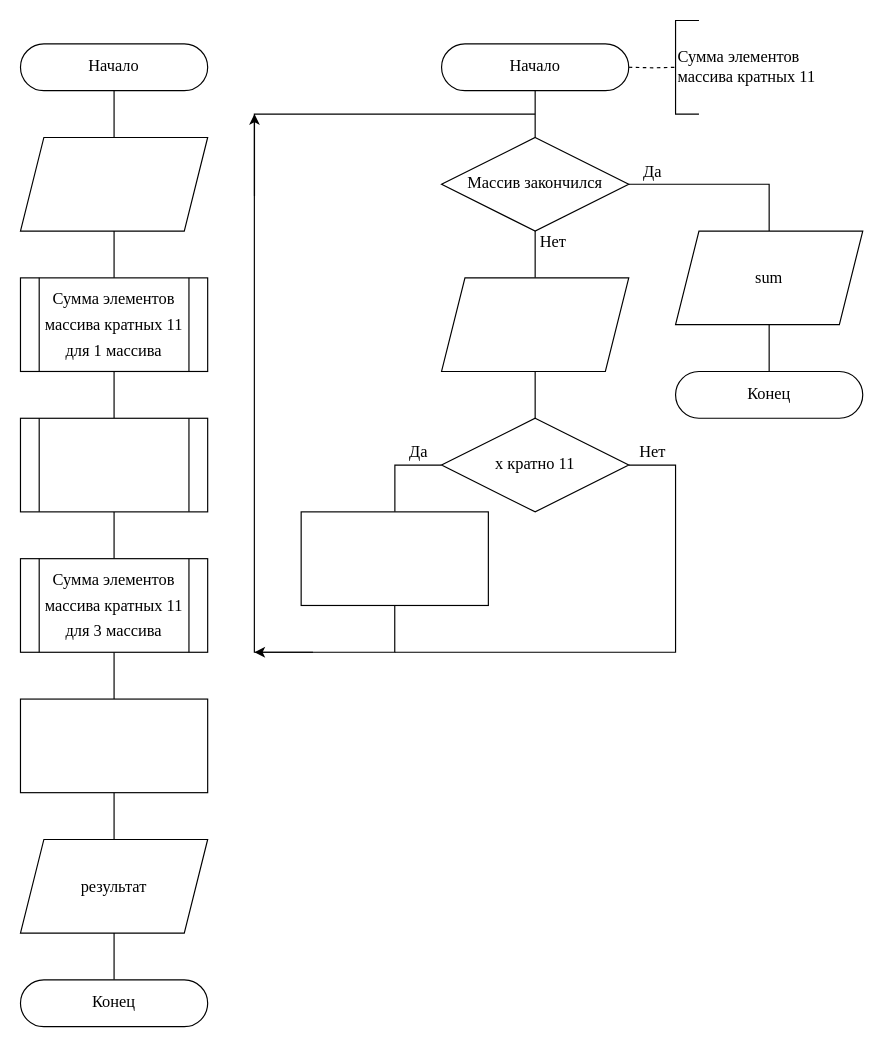
Some shapes in this 883 by 1047 pixel diagram are drawn without their labels. Here are the shapes that lost their labels. From the top down, the centre of each, then its label:
At (113,183): "Ввод 3 массивов чисел".
At (534,324): "x - очередной элемент массива".
At (113,464): "Сумма элементов массива кратных 11 для 2 массива".
At (394,558): "sum := sum + x".
At (113,745): "результат := sum / 3".
